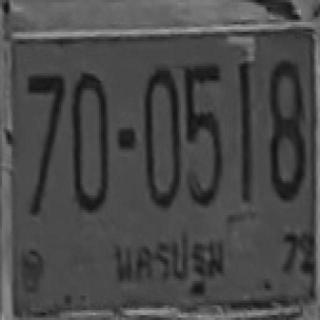N00: (70, 71, 107, 210), (143, 65, 179, 206)
N07: (27, 72, 63, 189), (27, 72, 63, 174), (27, 72, 63, 162)
N08: (268, 59, 304, 198)
P28: (106, 227, 230, 294)
